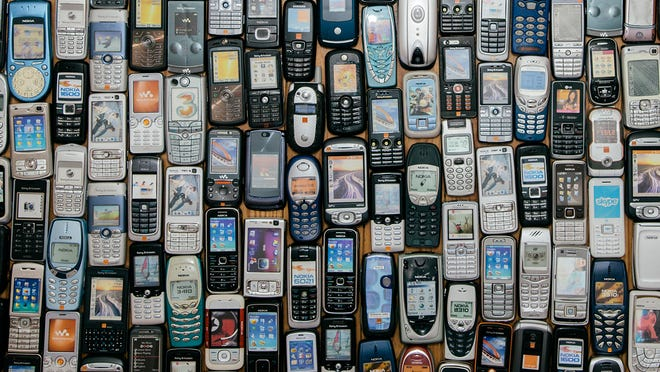phones: (4, 1, 56, 98), (281, 156, 326, 245), (552, 159, 592, 247), (45, 220, 83, 310), (128, 69, 165, 159), (519, 55, 557, 140), (371, 168, 406, 255), (205, 297, 244, 372)
